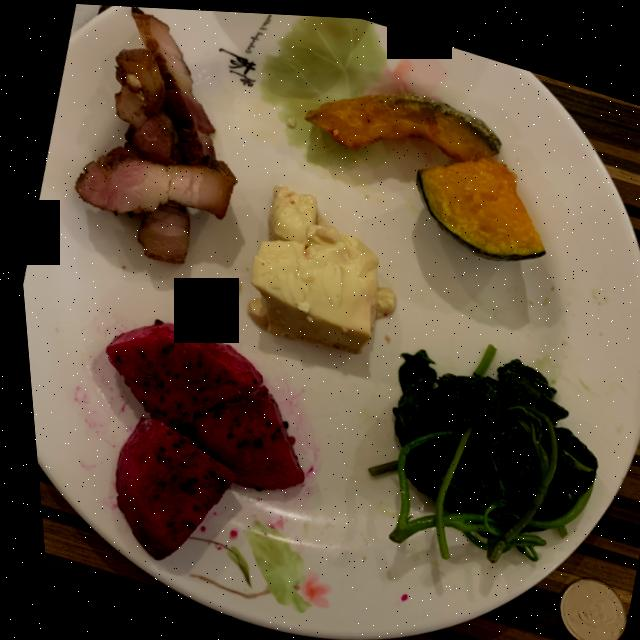coin: (548, 572, 615, 640)
grilled pork: (71, 5, 232, 261)
pumpkin: (302, 89, 539, 255)
sweet potato leaves: (361, 345, 589, 557)
